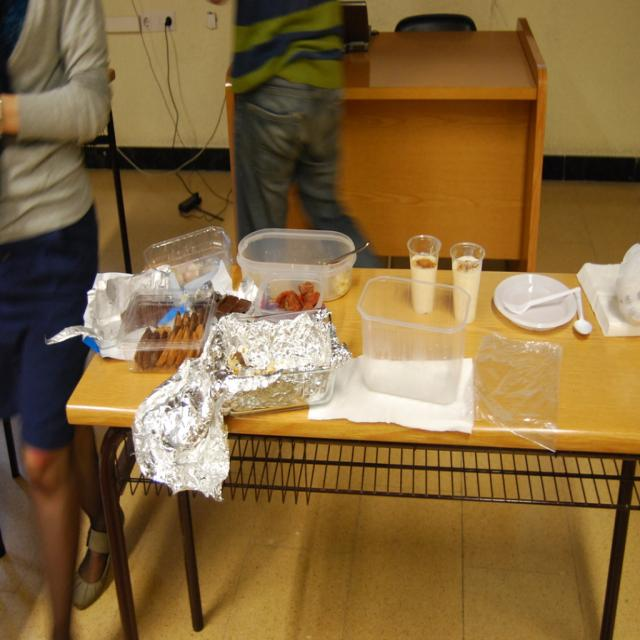non-organic waste: (489, 264, 580, 343)
